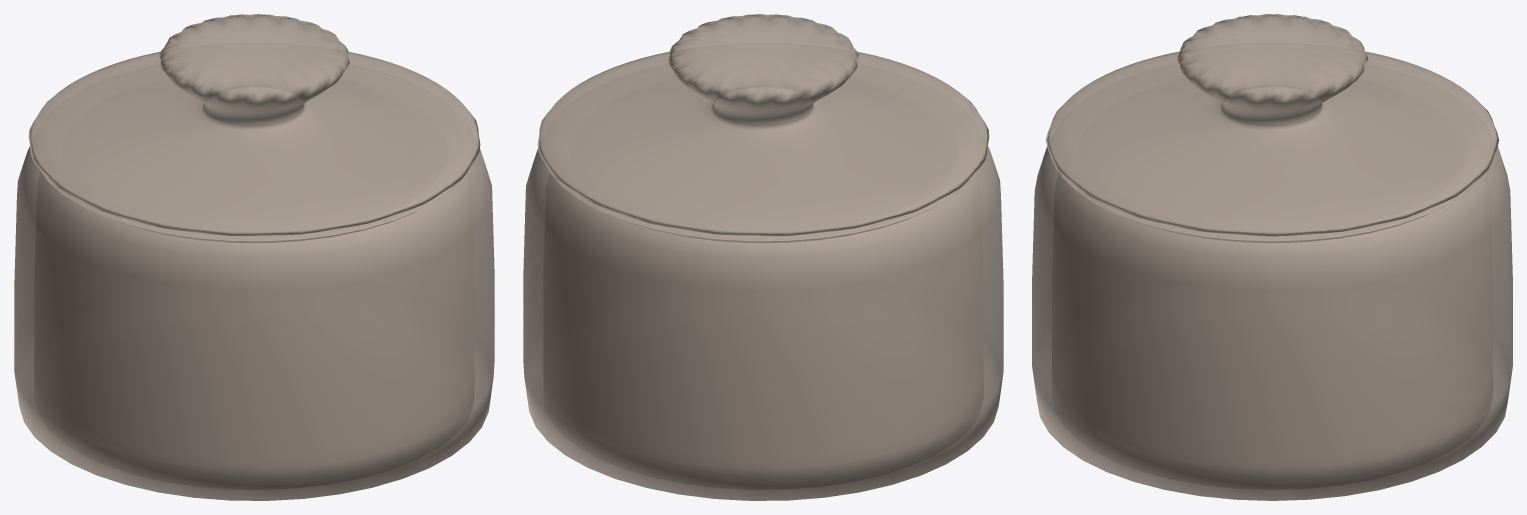
The model's file is GlassJar01.fbx.
The picture shows the model from 3 angles, left to right: view 1: azimuth 30°, elevation 25°; view 2: azimuth 150°, elevation 25°; view 3: azimuth 270°, elevation 25°; orthographic projection.
Visible parts, largest first — view 1: pCylinder1, pCylinder2; view 2: pCylinder1, pCylinder2; view 3: pCylinder1, pCylinder2.
Boxes of the visible parts, x1=… form: pCylinder1: x1=14, y1=146, x2=494, y2=500; pCylinder2: x1=28, y1=14, x2=480, y2=235; pCylinder1: x1=523, y1=146, x2=1003, y2=500; pCylinder2: x1=537, y1=14, x2=989, y2=235; pCylinder1: x1=1032, y1=147, x2=1512, y2=500; pCylinder2: x1=1045, y1=14, x2=1499, y2=236.
Bounding box in the file's own units: 3.91 × 3.26 × 3.91.
